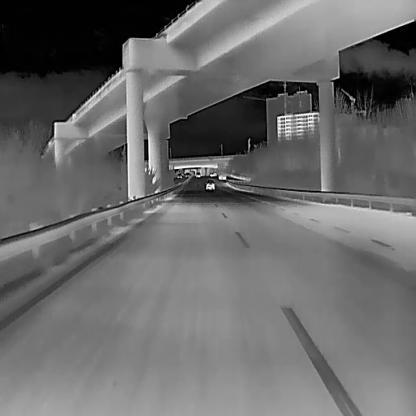car: (205, 179, 214, 189), (218, 169, 226, 179), (209, 172, 217, 176), (184, 172, 190, 177), (195, 171, 200, 177), (177, 172, 182, 177)
